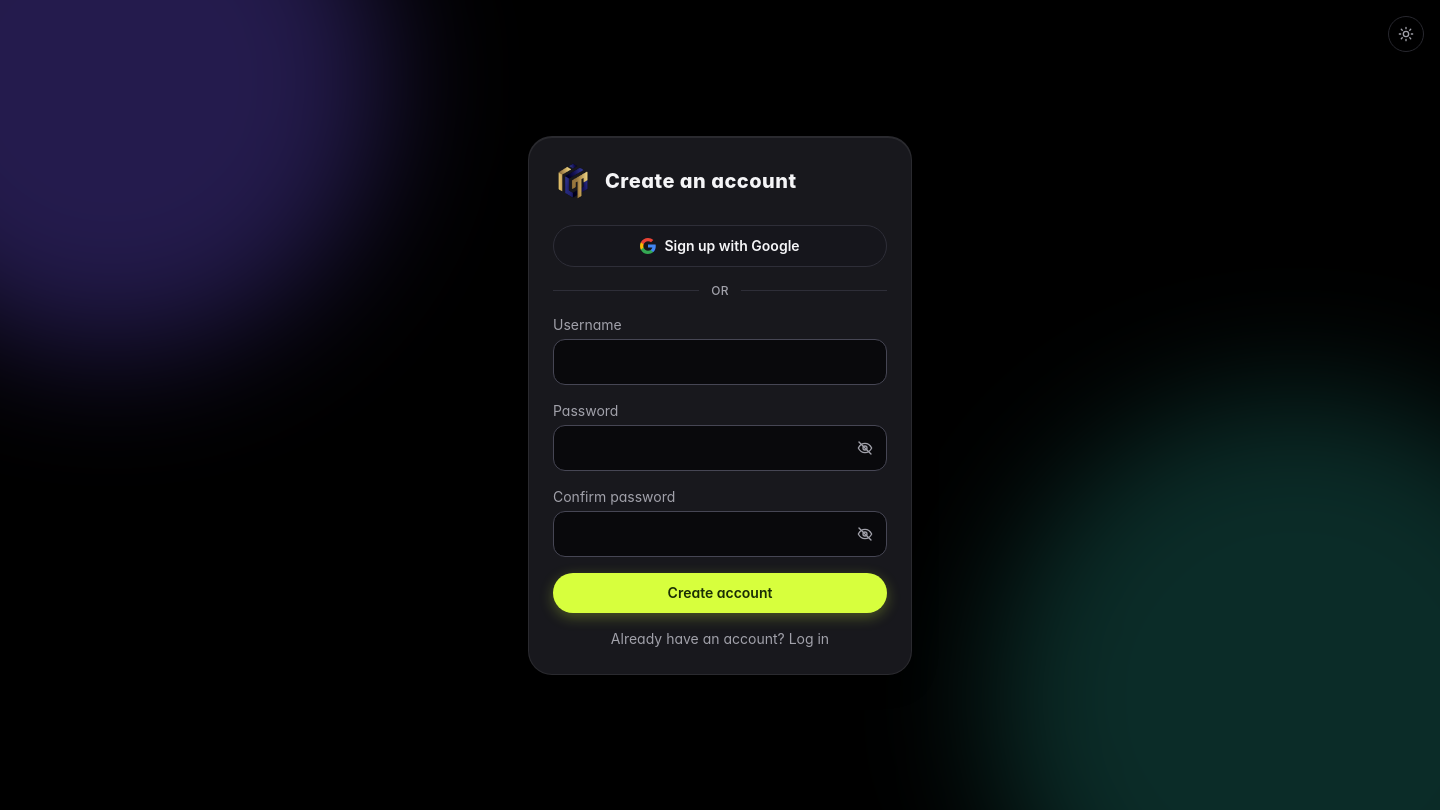
RegisterPage › shows the server error message when registration fails
Type "taken" into the field labelled "Username".
click(720, 362); type("taken")  # box [553,338,887,384]
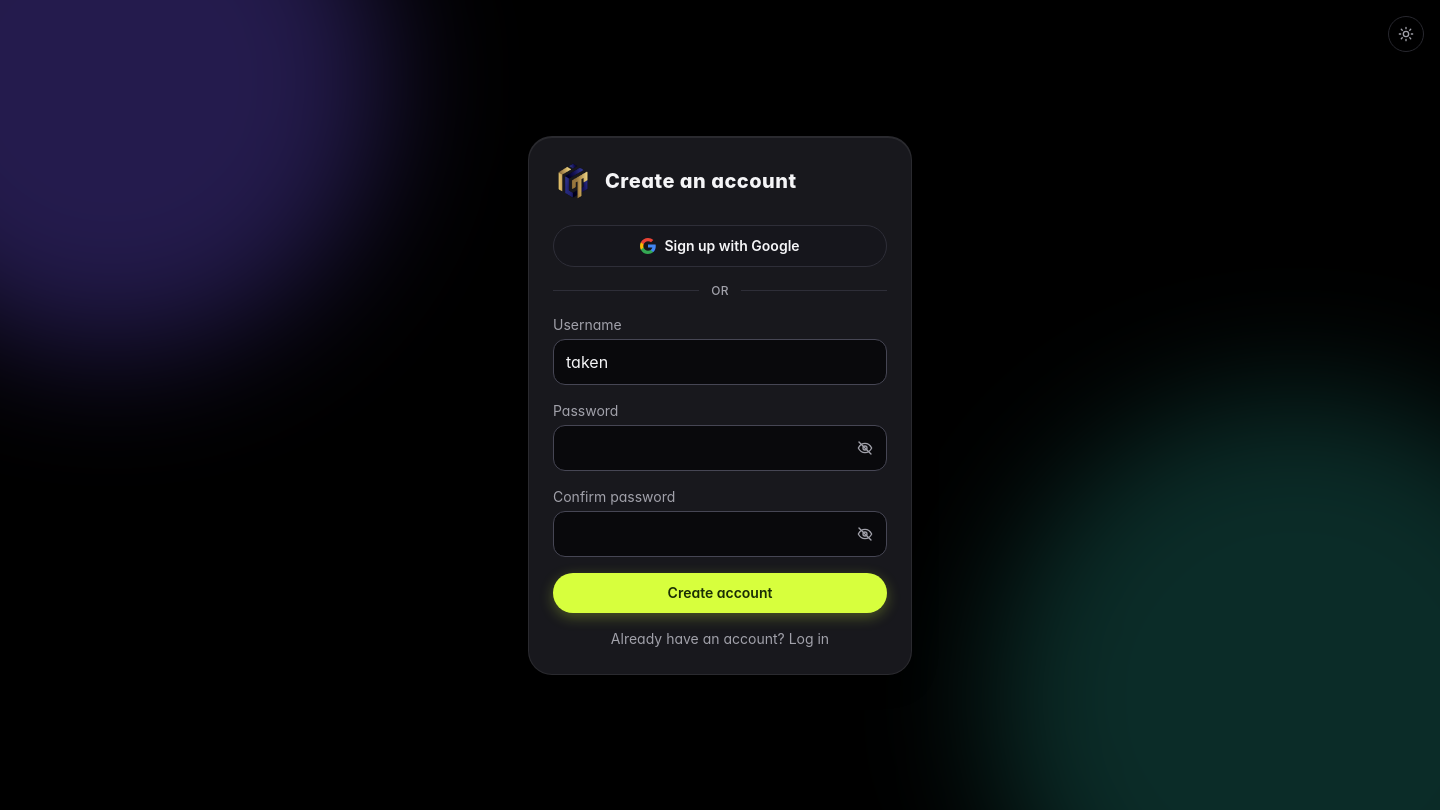
Type "longenough" into the password field labelled "Password".
click(720, 448); type("longenough")  # box [553,424,887,470]
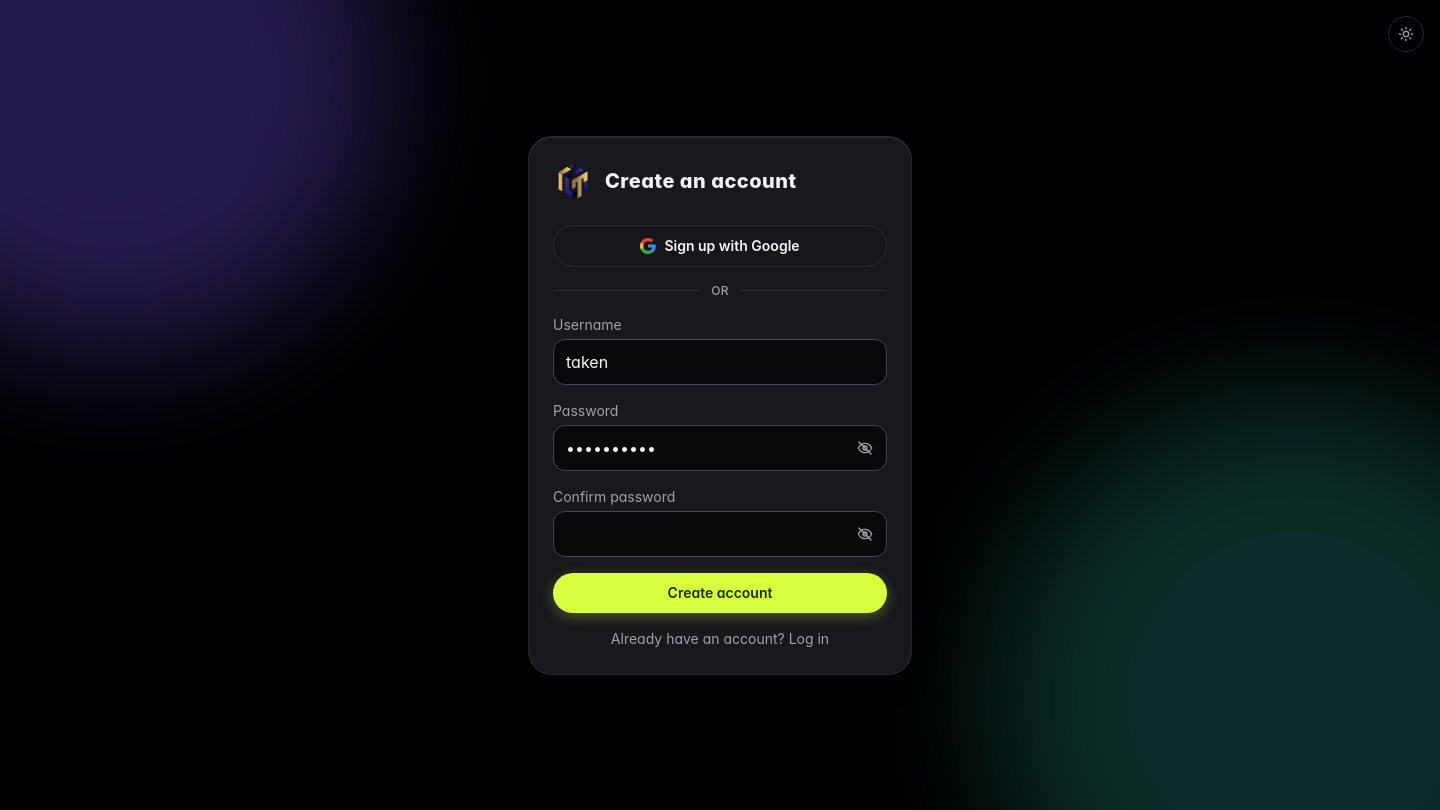
Type "longenough" into the password field labelled "Confirm password".
click(720, 534); type("longenough")  # box [553,510,887,556]
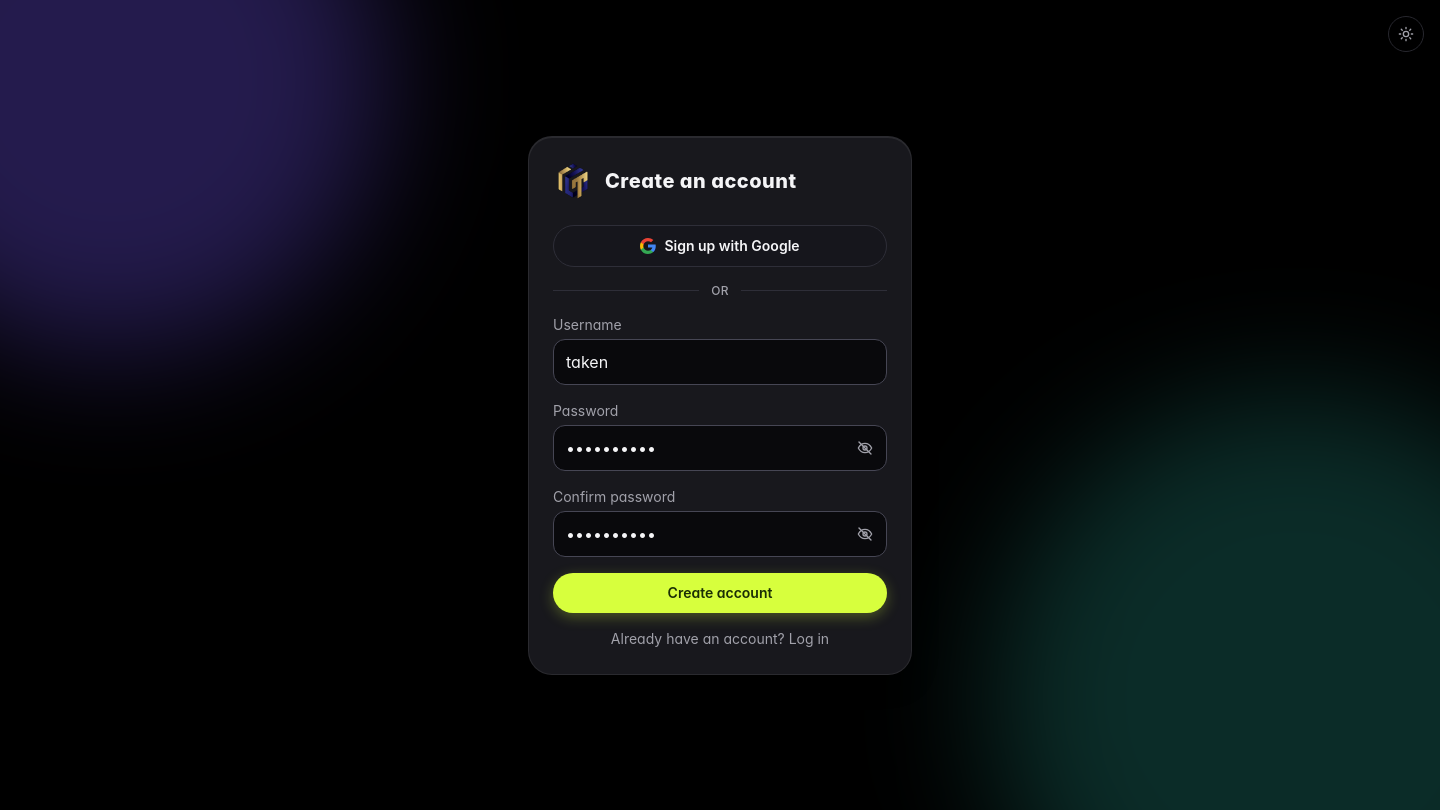
Click the button "Create account".
click(720, 592)  # box [553,572,887,612]
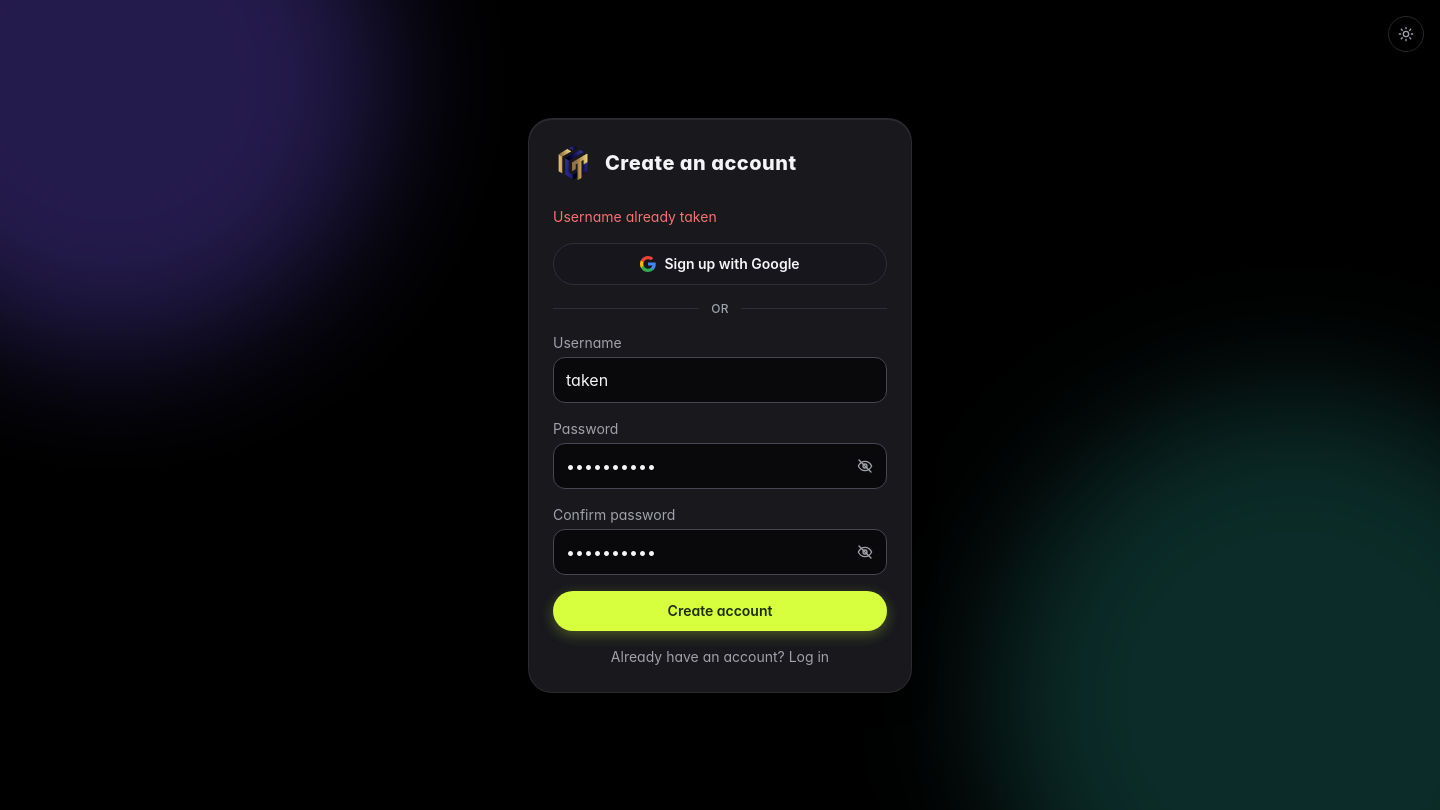
Expected: the text "Username already taken" is shown, [553,208,717,224]
